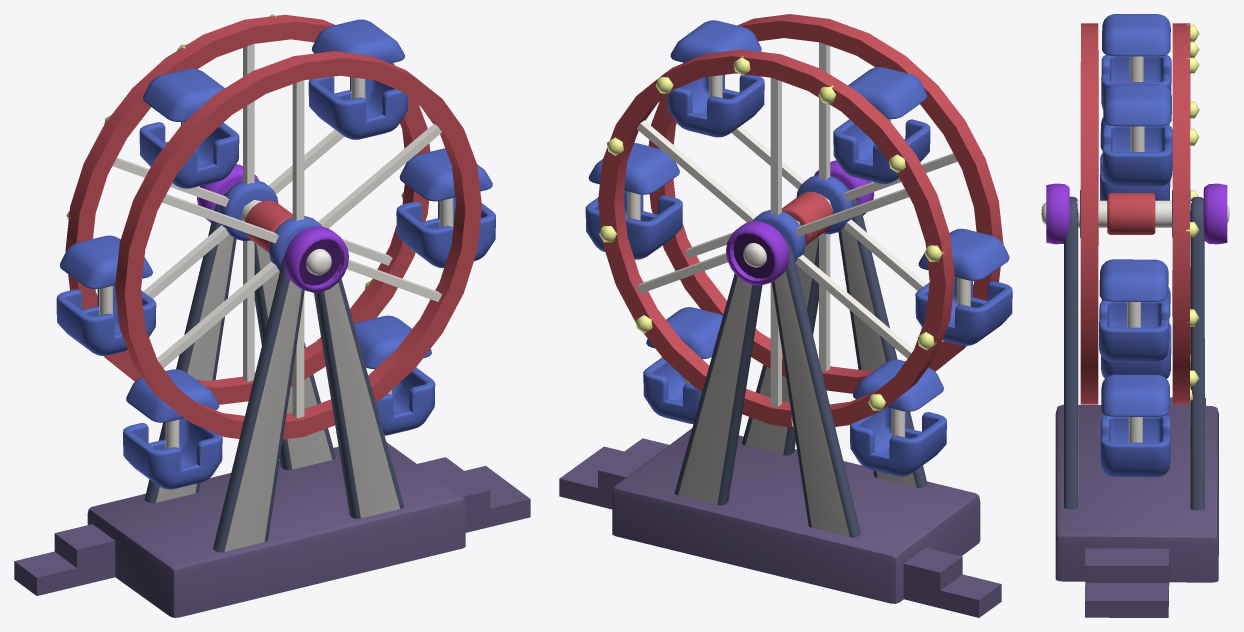
File: WheelStand (1).fbx
The picture shows the model from 3 angles, left to right: view 1: azimuth 30°, elevation 25°; view 2: azimuth 150°, elevation 25°; view 3: azimuth 270°, elevation 25°; orthographic projection. The views are drawn at different scales.
Visible parts, largest first — view 1: WheelStand, Wheel, Chair_03, Chair_06, Chair_04, Chair_05, Chair_01, Chair_02; view 2: WheelStand, Wheel, Chair_03, Chair_06, Chair_04, Chair_05, Chair_01, Chair_02; view 3: WheelStand, Wheel, Chair_01, Chair_02, Chair_06, Chair_05, Chair_03, Chair_04.
Boxes of the visible parts, x1,y1,x2,y2 form: WheelStand: (14, 192, 530, 617); Wheel: (65, 14, 481, 439); Chair_03: (123, 369, 222, 489); Chair_06: (308, 19, 407, 139); Chair_04: (56, 235, 156, 355); Chair_05: (139, 68, 239, 188); Chair_01: (396, 148, 495, 268); Chair_02: (354, 315, 435, 435); WheelStand: (559, 187, 1001, 617); Wheel: (598, 14, 1003, 427); Chair_03: (850, 359, 946, 476); Chair_06: (667, 20, 764, 137); Chair_04: (915, 228, 1012, 345); Chair_05: (833, 67, 930, 184); Chair_01: (585, 142, 682, 259); Chair_02: (643, 307, 722, 423); WheelStand: (1055, 196, 1218, 617); Wheel: (1041, 23, 1229, 404); Chair_01: (1099, 259, 1169, 362); Chair_02: (1100, 374, 1170, 477); Chair_06: (1102, 84, 1172, 186); Chair_05: (1101, 14, 1171, 109); Chair_03: (1101, 287, 1171, 378); Chair_04: (1100, 117, 1170, 200).
Size of the model in its own units: 1549 by 1679 by 604.
